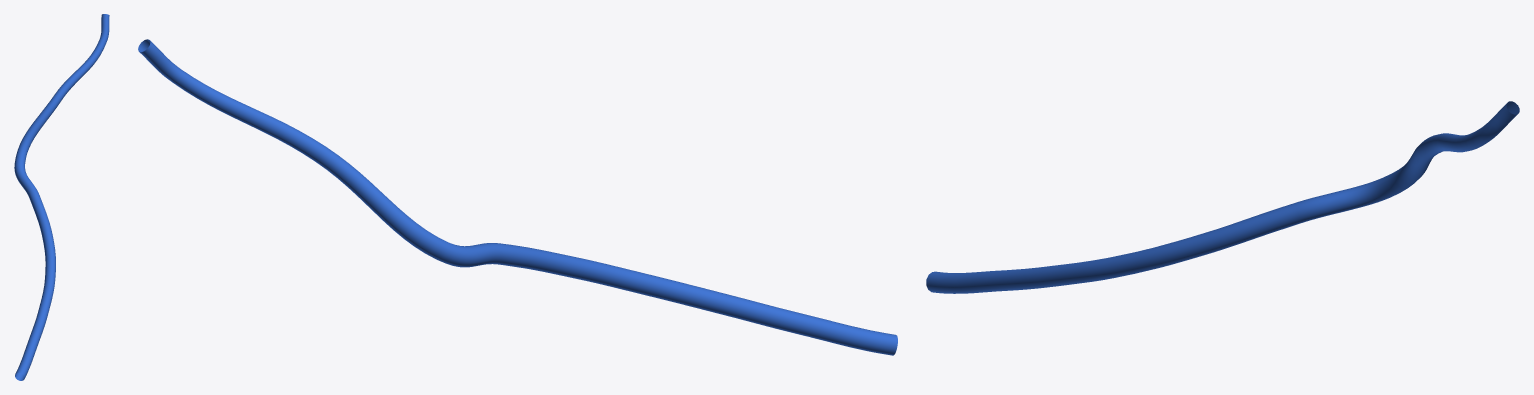
The model's file is circulatorio-left-gastro-omental-vein.glb.
3 renders of one model, left to right at view 1: azimuth 30°, elevation 25°; view 2: azimuth 150°, elevation 25°; view 3: azimuth 270°, elevation 25°, orthographic. The views are drawn at different scales.
Visible parts, largest first — view 1: Left gastro-omental vein; view 2: Left gastro-omental vein; view 3: Left gastro-omental vein.
Boxes of the visible parts, box(x1,y1,x2,y2) form: Left gastro-omental vein: box(14, 14, 109, 380); Left gastro-omental vein: box(138, 39, 897, 355); Left gastro-omental vein: box(926, 101, 1519, 293).
Size of the model in its own units: 0.0514 by 0.0428 by 0.0558.
